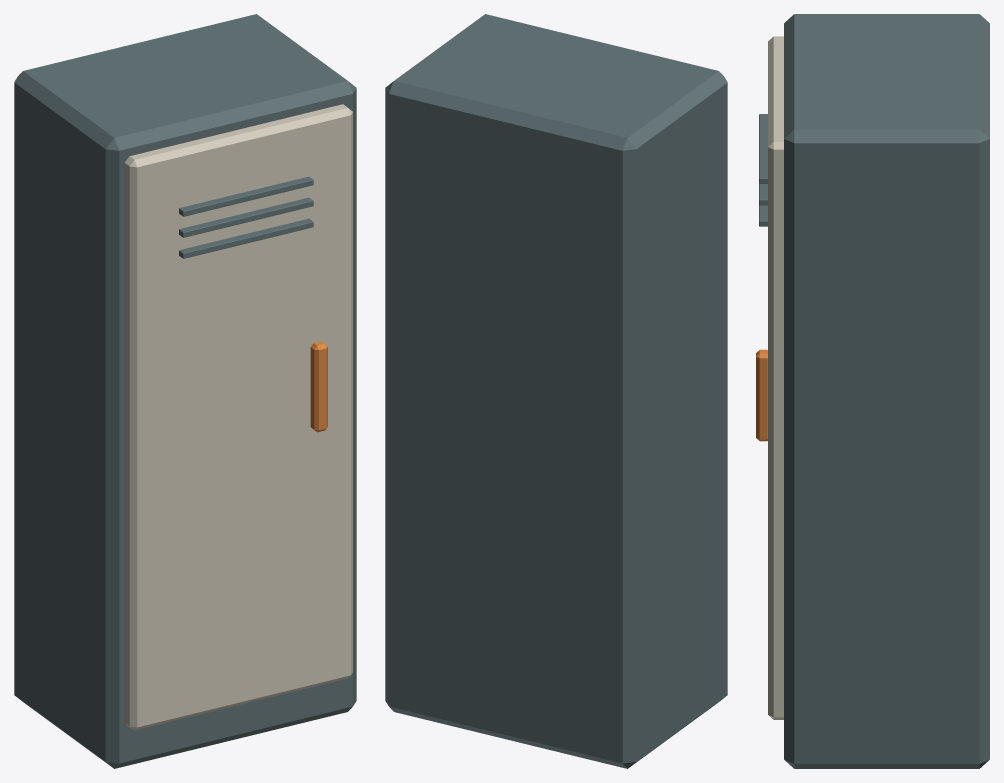
The model's file is cabinet.glb.
The picture shows the model from 3 angles, left to right: view 1: azimuth 30°, elevation 25°; view 2: azimuth 150°, elevation 25°; view 3: azimuth 270°, elevation 25°; orthographic projection.
Parts seen in each view (by area): view 1: cabinet; view 2: cabinet; view 3: cabinet.
Boxes of the visible parts, box(x1,y1,x2,y2) form: cabinet: box(14, 14, 356, 768); cabinet: box(385, 14, 727, 768); cabinet: box(756, 14, 989, 768).
Bounding box in the file's own units: 1 × 2.4 × 0.795.
